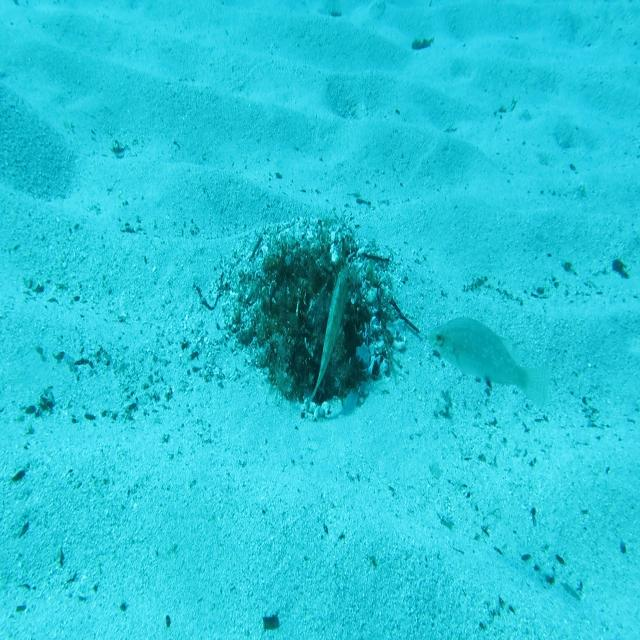FAN: (304, 263, 352, 414)
core_nest: (286, 260, 325, 292)
female: (424, 314, 552, 416)
nest: (216, 206, 414, 437)
vegetation: (612, 258, 630, 283), (261, 610, 280, 633), (412, 34, 435, 52)
